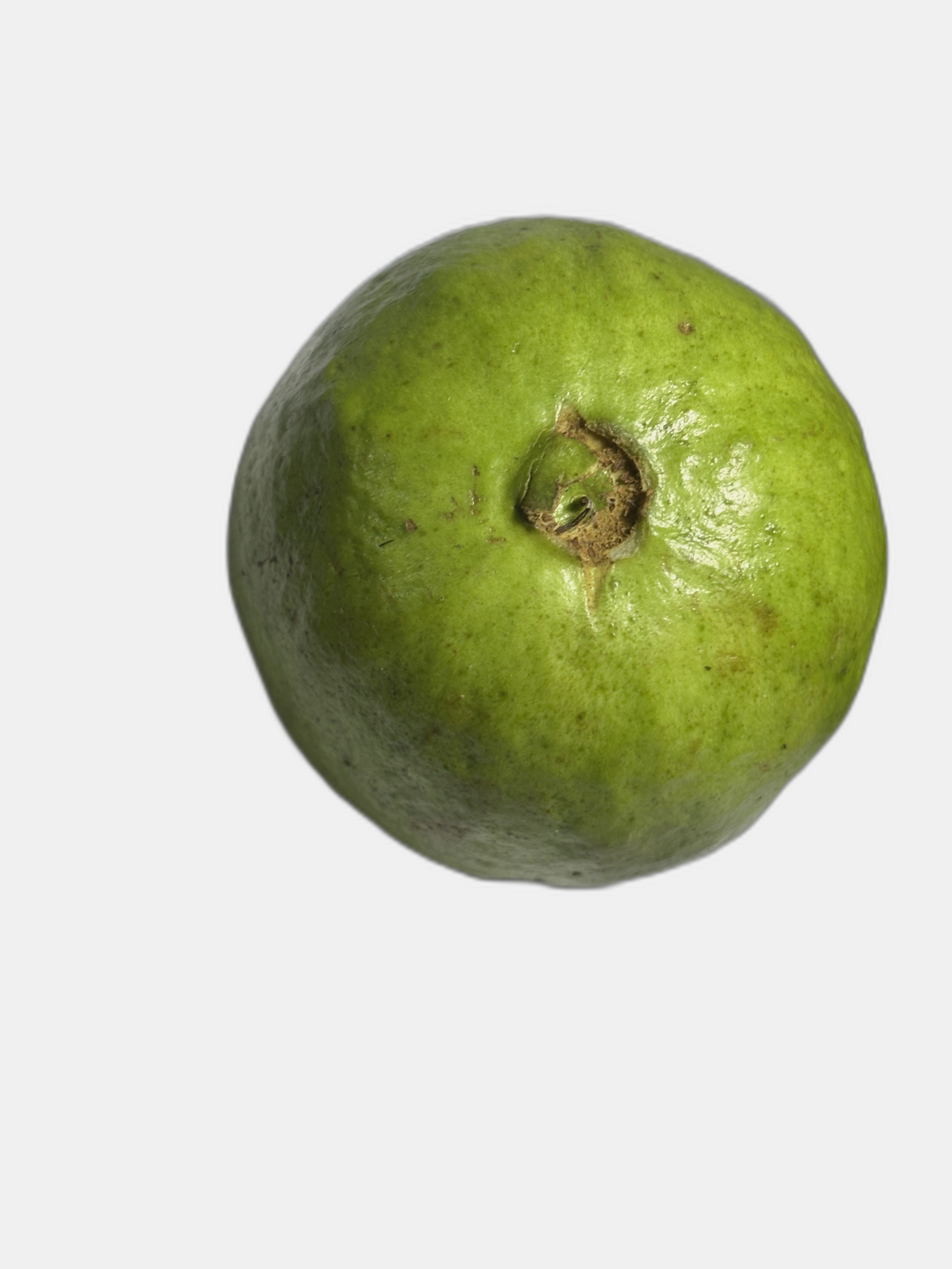guava: (94, 200, 794, 1132)
